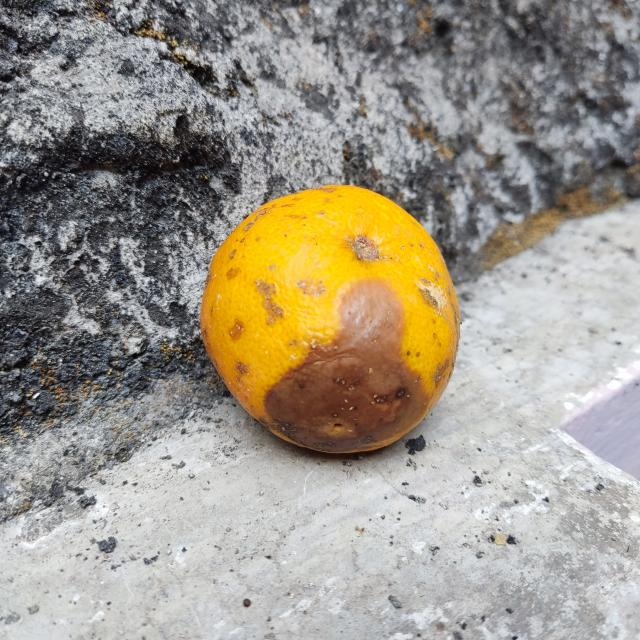orange: (194, 185, 465, 455)
